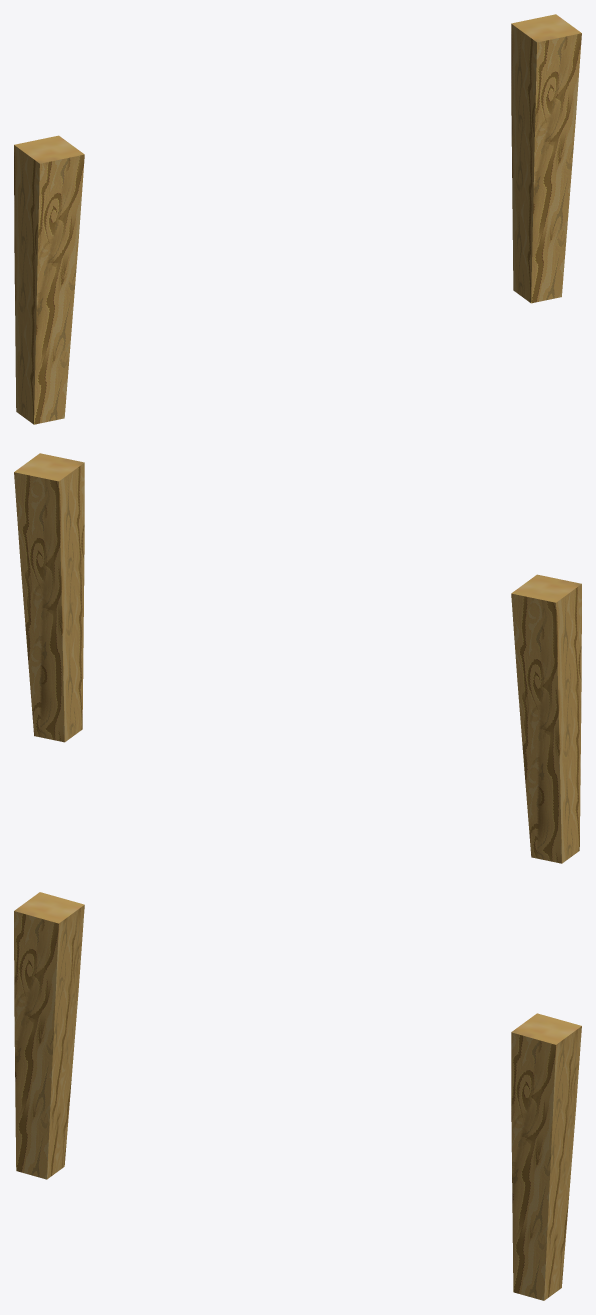
Rendered from Fence_05.FBX.
3 views of the same model, one above another, from view 1: azimuth 30°, elevation 25°; view 2: azimuth 150°, elevation 25°; view 3: azimuth 330°, elevation 25° (orthographic).
Visible parts, largest first — view 1: Fence_05; view 2: Fence_05; view 3: Fence_05.
Part boxes in pixels (bbox=[...]): Fence_05: bbox=[14, 14, 581, 424]; Fence_05: bbox=[14, 453, 581, 863]; Fence_05: bbox=[14, 892, 581, 1300].
Size of the model in its own units: 216 by 100 by 17.85.
